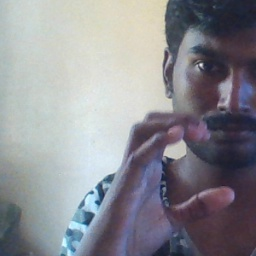C: (120, 107, 237, 226)
